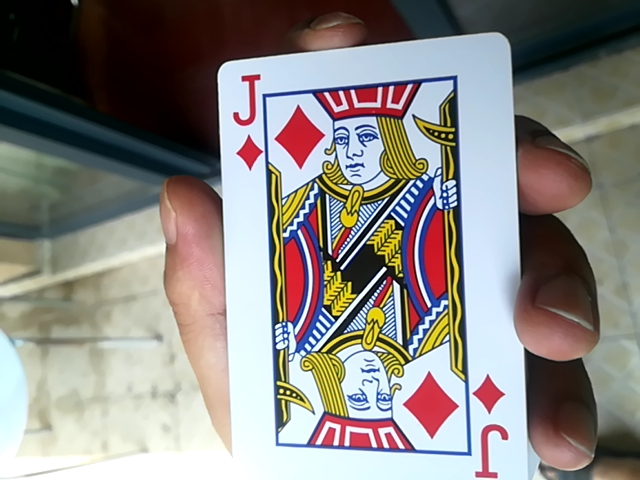fk j: (192, 47, 520, 473)
